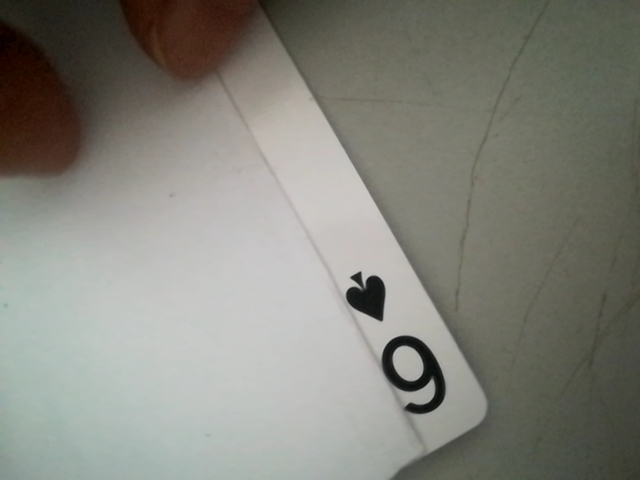ht 6: (335, 259, 467, 435)
